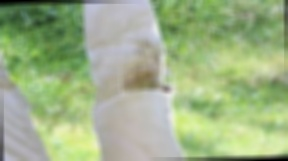earth: (128, 39, 161, 92)
